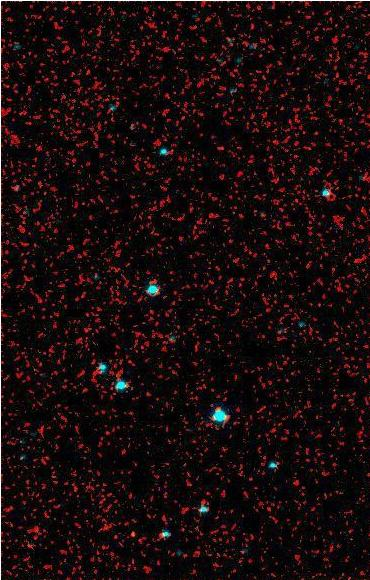star: (203, 132, 233, 162)
